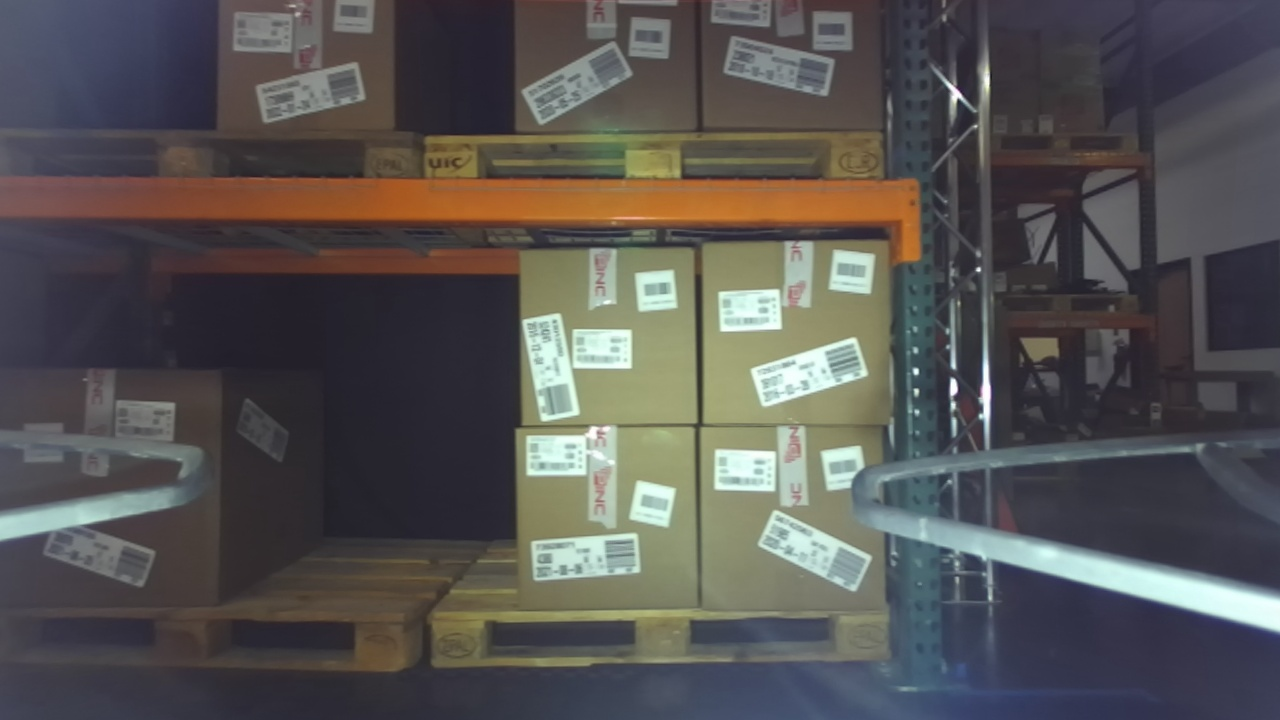box: (1, 347, 250, 637), (484, 223, 725, 458), (673, 214, 909, 446), (498, 411, 726, 646), (683, 401, 905, 638), (674, 1, 908, 153), (491, 1, 725, 152), (191, 1, 415, 145)
